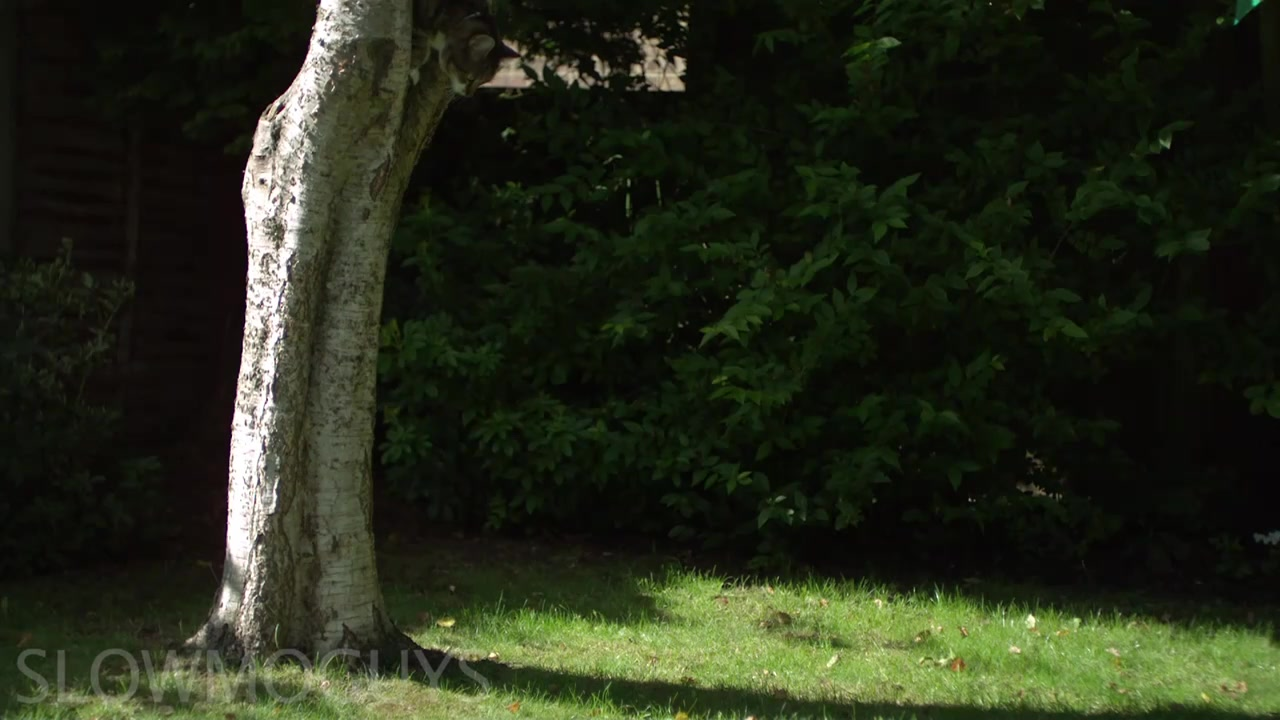cat: (413, 4, 505, 99)
